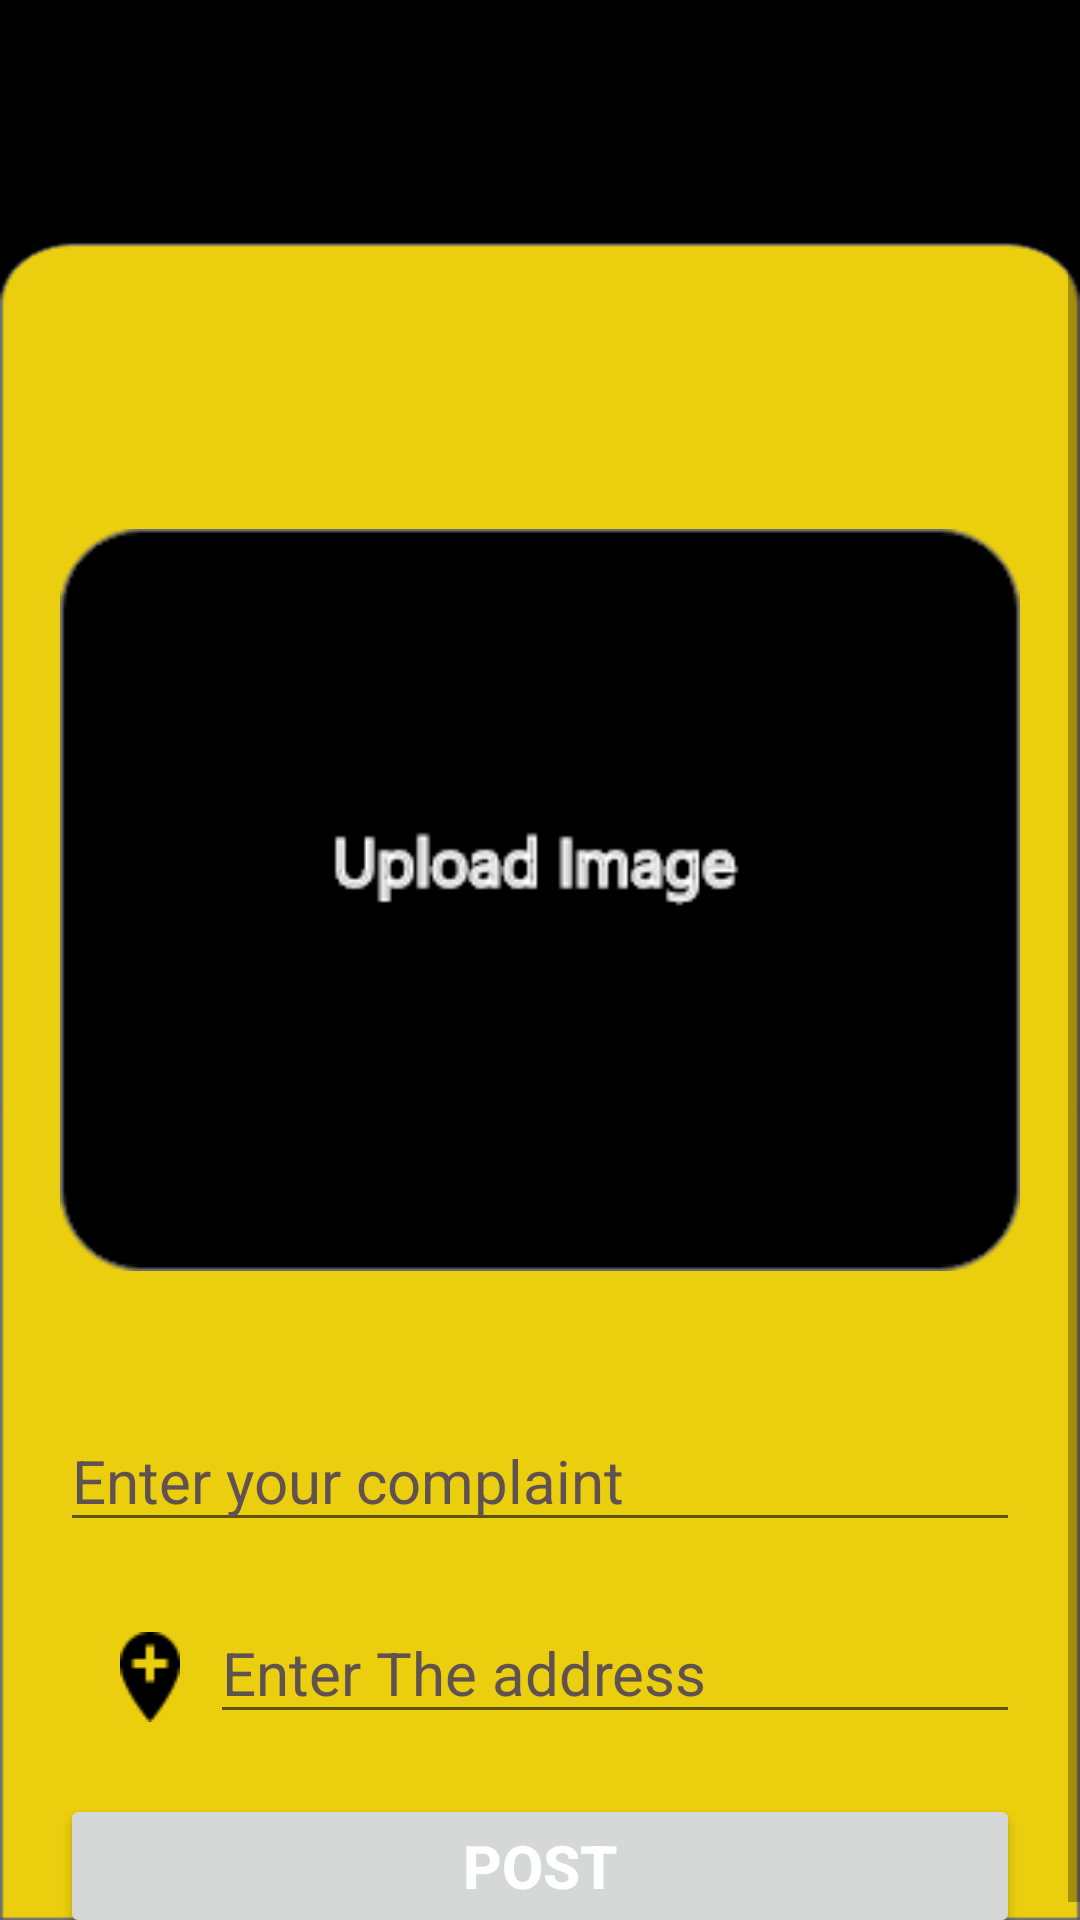

Screen size 1080px×1920px. Icon name, then its center in pixels as (x,y):
location: (150,1677)
